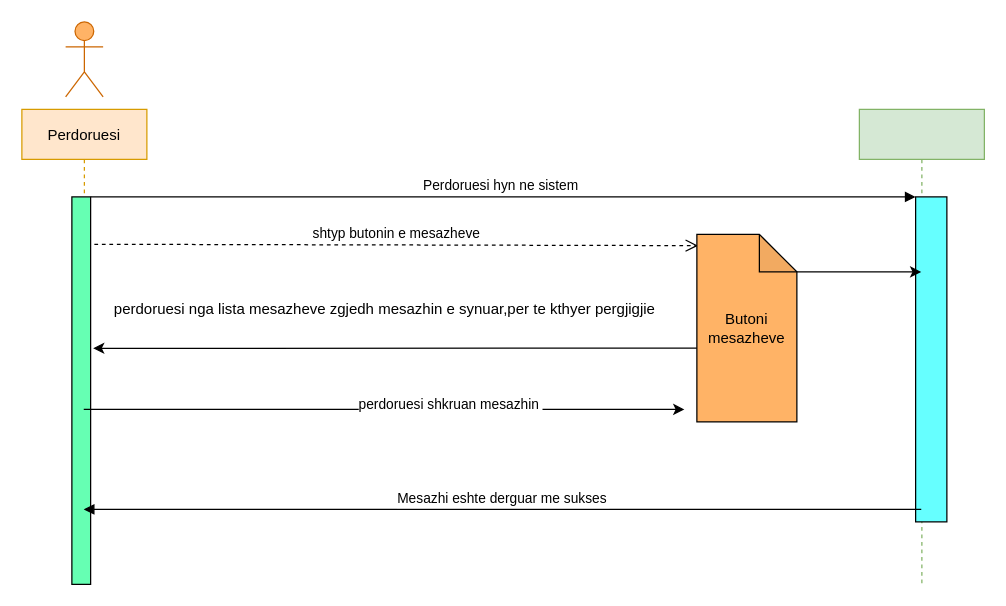
The diagram is 1006 pixels wide and 606 high, and some of its shapes have lost their labels. The shapes that lost their labels are listed below. From the top down, each one's box as (x1, y1, x2, y2) in pixels, then its label:
(64, 21, 103, 97): Actor
(858, 108, 984, 584): Web app
